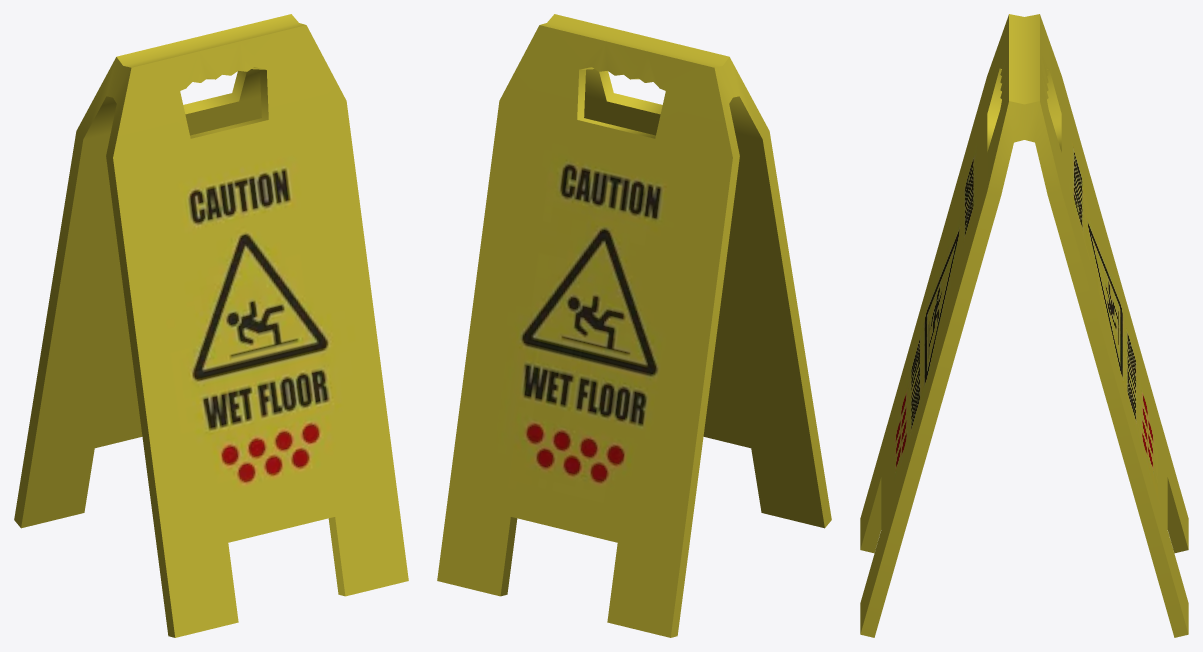
File: wetFloorSign.glb
3 renders of one model, left to right at view 1: azimuth 30°, elevation 25°; view 2: azimuth 150°, elevation 25°; view 3: azimuth 270°, elevation 25°, orthographic.
Parts seen in each view (by area): view 1: WetFloorSign_01; view 2: WetFloorSign_01; view 3: WetFloorSign_01.
Part boxes in pixels (x1=…): WetFloorSign_01: x1=14, y1=14, x2=408, y2=637; WetFloorSign_01: x1=437, y1=14, x2=831, y2=637; WetFloorSign_01: x1=860, y1=14, x2=1188, y2=637.
Bounding box in the file's own units: 0.3001 × 0.6295 × 0.3585.
Materials: 1 (1 with a texture image).
